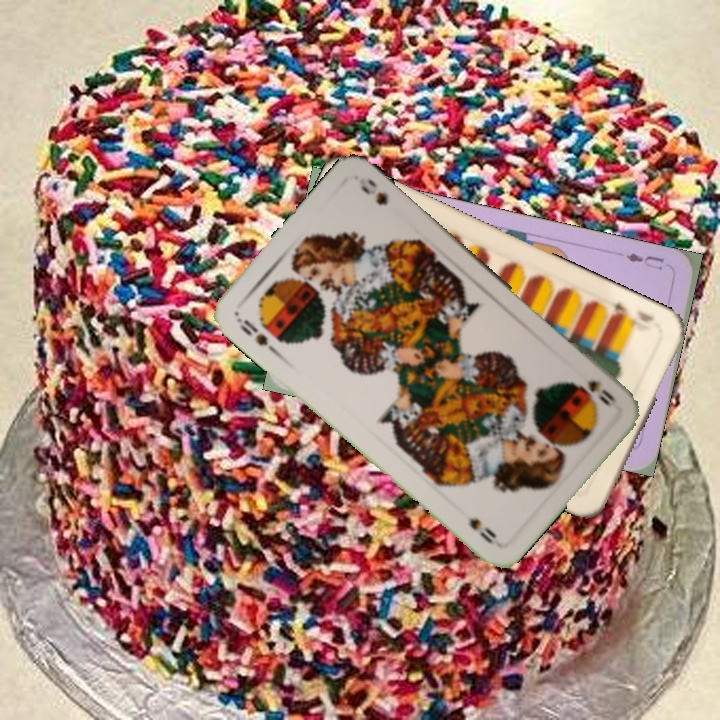E10: (607, 298, 657, 325)
EU: (621, 248, 667, 273)
SO: (232, 313, 281, 358), (583, 376, 620, 411)
